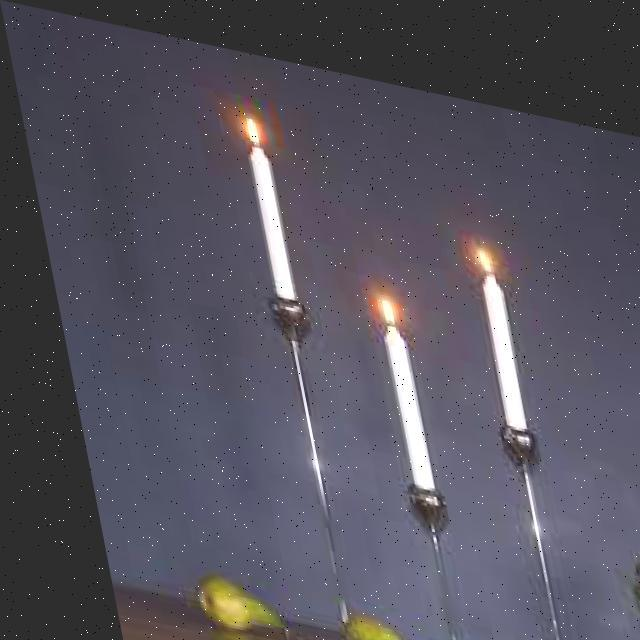Fire: (448, 210, 500, 262), (354, 266, 400, 314), (227, 89, 265, 140)
